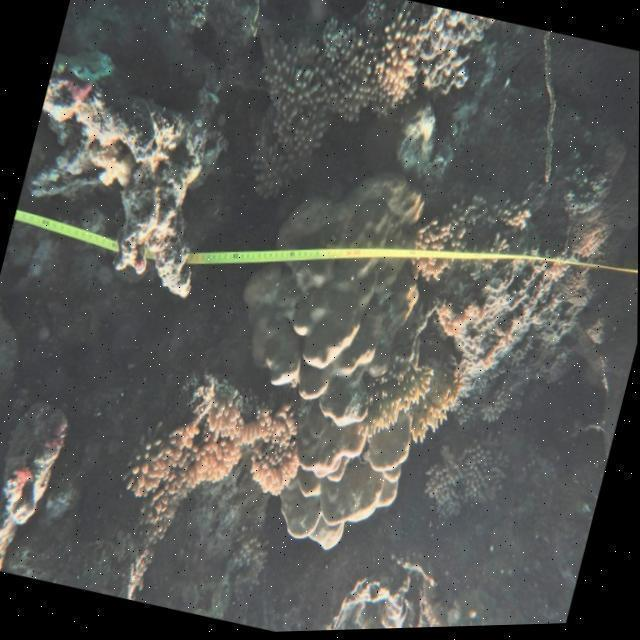Healthy Coral: (102, 363, 308, 525)
